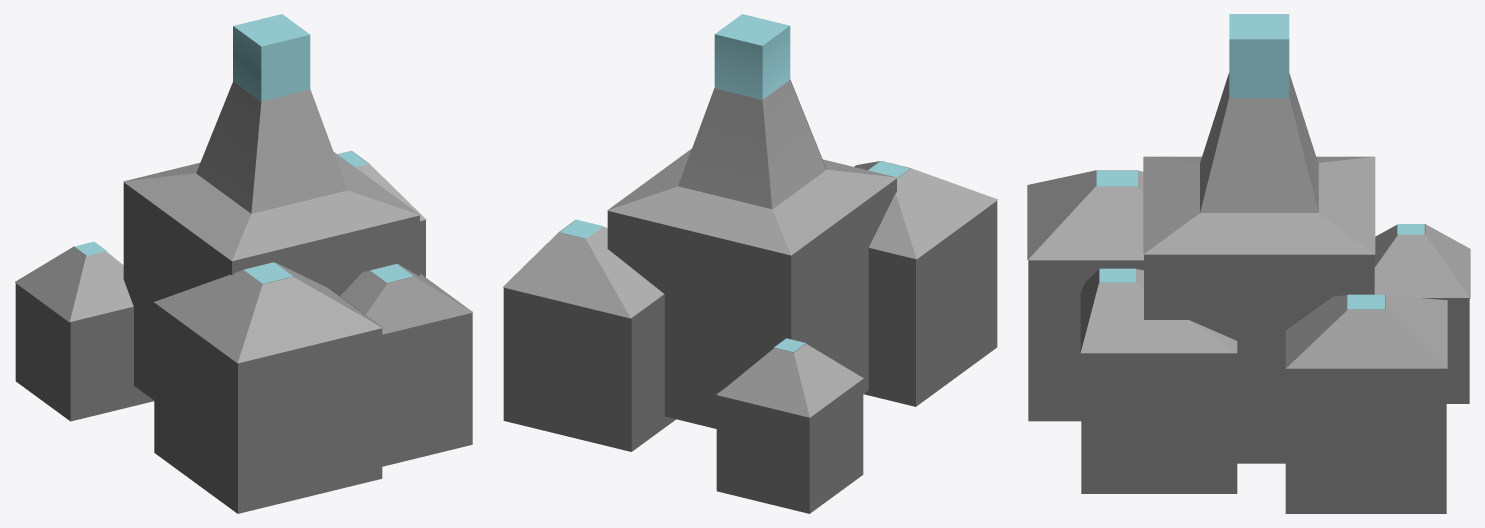
The model's file is AnotherLight1.fbx.
3 renders of one model, left to right at view 1: azimuth 30°, elevation 25°; view 2: azimuth 150°, elevation 25°; view 3: azimuth 270°, elevation 25°, orthographic. The views are drawn at different scales.
Parts seen in each view (by area): view 1: anotherLight1; view 2: anotherLight1; view 3: anotherLight1.
Part boxes in pixels (x1,y1,x2,y2): anotherLight1: (15, 14, 473, 513); anotherLight1: (503, 14, 998, 513); anotherLight1: (1027, 14, 1470, 513).
Bounding box in the file's own units: 11.92 × 13.46 × 13.2.
